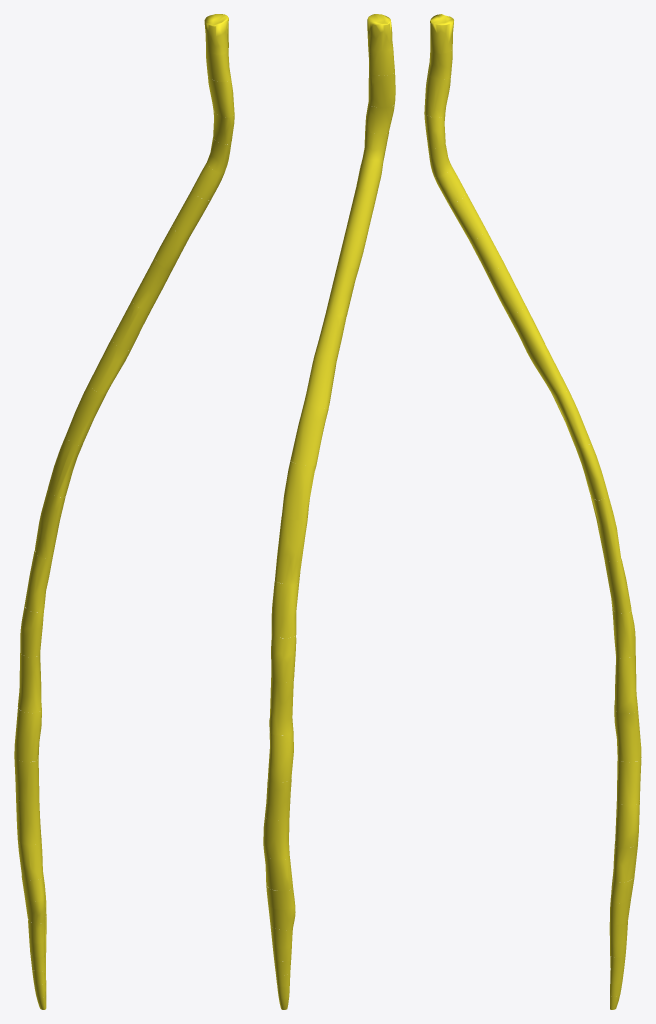
The model's file is spinal_cord.glb.
3 views of the same model, side by side, from view 1: azimuth 90°, elevation 25°; view 2: azimuth 150°, elevation 25°; view 3: azimuth 270°, elevation 25° (orthographic). The views are drawn at different scales.
Visible parts, largest first — view 1: VH_F_sixth_thoracic_spinal_cord_segment, VH_F_ninth_thoracic_spinal_cord_segment, VH_F_tenth_thoracic_spinal_cord_segment, VH_F_fourth_thoracic_spinal_cord_segment, VH_F_third_thoracic_spinal_cord_segment, VH_F_fifth_thoracic_spinal_cord_segment, VH_F_seventh_thoracic_spinal_cord_segment, VH_F_first_thoracic_spinal_cord_segment, VH_F_twelfth_thoracic_spinal_cord_segment, VH_F_second_thoracic_spinal_cord_segment, VH_F_eleventh_thoracic_spinal_cord_segment, VH_F_eigth_thoracic_spinal_cord_segment (+9 smaller); view 2: VH_F_sixth_thoracic_spinal_cord_segment, VH_F_fourth_thoracic_spinal_cord_segment, VH_F_fifth_thoracic_spinal_cord_segment, VH_F_seventh_thoracic_spinal_cord_segment, VH_F_ninth_thoracic_spinal_cord_segment, VH_F_third_thoracic_spinal_cord_segment, VH_F_tenth_thoracic_spinal_cord_segment, VH_F_eigth_thoracic_spinal_cord_segment, VH_F_first_thoracic_spinal_cord_segment, VH_F_twelfth_thoracic_spinal_cord_segment, VH_F_second_thoracic_spinal_cord_segment, VH_F_C7_segment_of_cervical_spinal_cord (+12 smaller); view 3: VH_F_ninth_thoracic_spinal_cord_segment, VH_F_tenth_thoracic_spinal_cord_segment, VH_F_sixth_thoracic_spinal_cord_segment, VH_F_eleventh_thoracic_spinal_cord_segment, VH_F_twelfth_thoracic_spinal_cord_segment, VH_F_first_thoracic_spinal_cord_segment, VH_F_fourth_thoracic_spinal_cord_segment, VH_F_seventh_thoracic_spinal_cord_segment, VH_F_fifth_thoracic_spinal_cord_segment, VH_F_eigth_thoracic_spinal_cord_segment, VH_F_second_thoracic_spinal_cord_segment, VH_F_third_thoracic_spinal_cord_segment (+9 smaller).
Part boxes in pixels (x1,y1,x2,y2): VH_F_sixth_thoracic_spinal_cord_segment: (35, 487, 65, 558); VH_F_ninth_thoracic_spinal_cord_segment: (17, 653, 41, 712); VH_F_tenth_thoracic_spinal_cord_segment: (14, 708, 41, 762); VH_F_fourth_thoracic_spinal_cord_segment: (66, 382, 106, 445); VH_F_third_thoracic_spinal_cord_segment: (89, 339, 130, 394); VH_F_fifth_thoracic_spinal_cord_segment: (48, 435, 82, 497); VH_F_seventh_thoracic_spinal_cord_segment: (24, 550, 52, 611); VH_F_first_thoracic_spinal_cord_segment: (132, 258, 172, 311); VH_F_twelfth_thoracic_spinal_cord_segment: (16, 798, 41, 844); VH_F_second_thoracic_spinal_cord_segment: (111, 300, 150, 350); VH_F_eleventh_thoracic_spinal_cord_segment: (14, 757, 39, 802); VH_F_eigth_thoracic_spinal_cord_segment: (20, 606, 43, 657); VH_F_sixth_thoracic_spinal_cord_segment: (275, 517, 307, 584); VH_F_fourth_thoracic_spinal_cord_segment: (290, 404, 328, 465); VH_F_fifth_thoracic_spinal_cord_segment: (281, 461, 316, 520); VH_F_seventh_thoracic_spinal_cord_segment: (271, 581, 299, 638); VH_F_ninth_thoracic_spinal_cord_segment: (269, 678, 293, 735); VH_F_third_thoracic_spinal_cord_segment: (304, 355, 336, 408); VH_F_tenth_thoracic_spinal_cord_segment: (268, 731, 293, 782); VH_F_eigth_thoracic_spinal_cord_segment: (271, 634, 296, 682); VH_F_first_thoracic_spinal_cord_segment: (326, 264, 358, 316); VH_F_twelfth_thoracic_spinal_cord_segment: (263, 816, 289, 859); VH_F_second_thoracic_spinal_cord_segment: (314, 312, 346, 360); VH_F_C7_segment_of_cervical_spinal_cord: (346, 187, 377, 232); VH_F_ninth_thoracic_spinal_cord_segment: (614, 654, 637, 713); VH_F_tenth_thoracic_spinal_cord_segment: (614, 708, 641, 762); VH_F_sixth_thoracic_spinal_cord_segment: (590, 494, 621, 561); VH_F_eleventh_thoracic_spinal_cord_segment: (617, 756, 641, 805); VH_F_twelfth_thoracic_spinal_cord_segment: (615, 801, 639, 848); VH_F_first_thoracic_spinal_cord_segment: (486, 262, 525, 314); VH_F_fourth_thoracic_spinal_cord_segment: (551, 388, 590, 448); VH_F_seventh_thoracic_spinal_cord_segment: (604, 559, 631, 613); VH_F_fifth_thoracic_spinal_cord_segment: (575, 442, 607, 500); VH_F_eigth_thoracic_spinal_cord_segment: (612, 609, 635, 658); VH_F_second_thoracic_spinal_cord_segment: (507, 305, 545, 353); VH_F_third_thoracic_spinal_cord_segment: (528, 345, 567, 395).
Bounding box in the file's own units: 0.0179 × 0.4088 × 0.0819.
